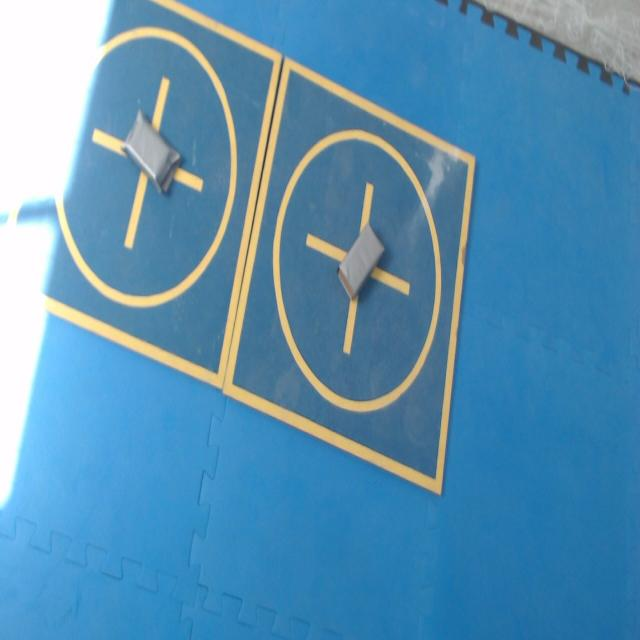direita: (339, 224, 384, 298)
esquerda: (122, 111, 180, 191)
